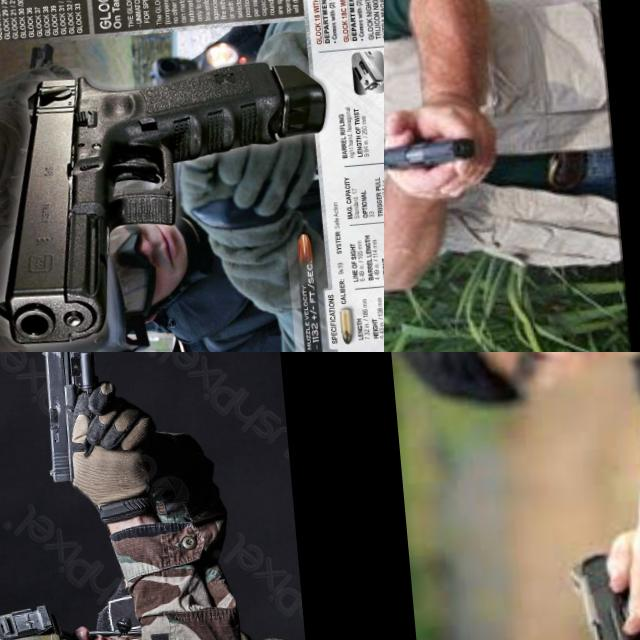handgun: (0, 50, 346, 349), (32, 352, 107, 486), (566, 541, 640, 640), (384, 126, 486, 177)
